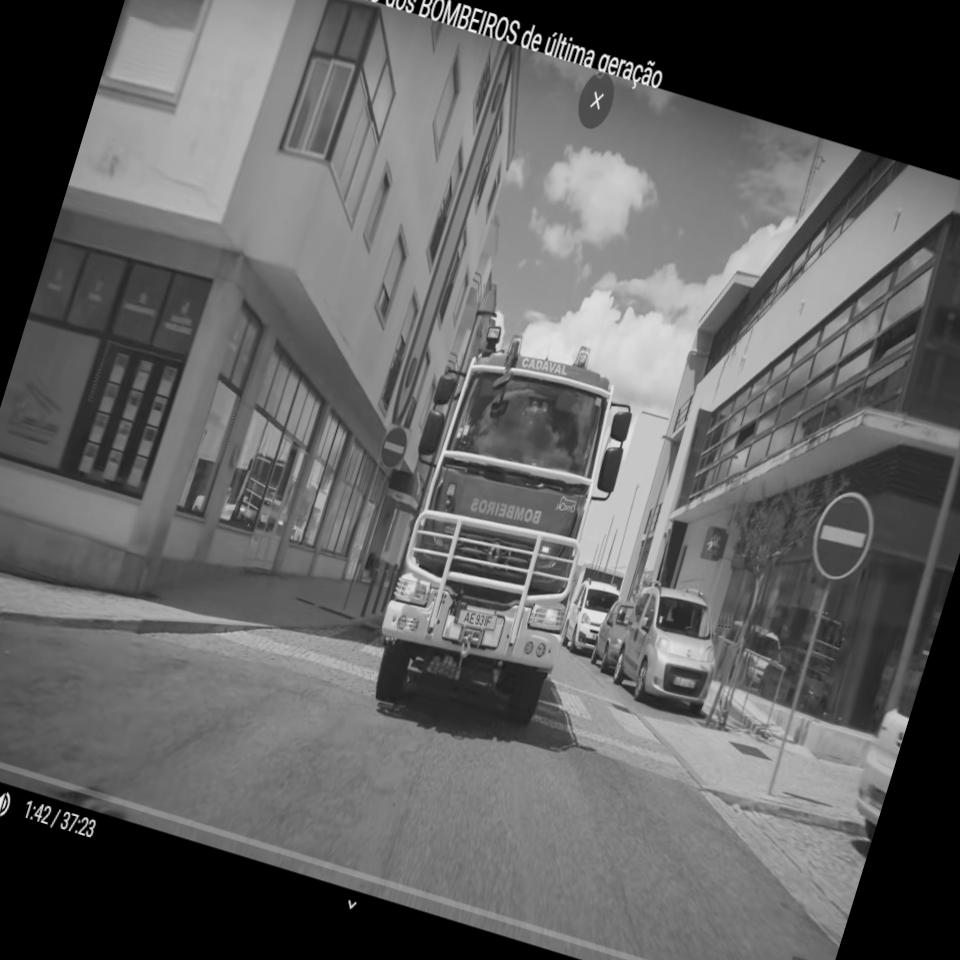viatura: (344, 304, 655, 756)
